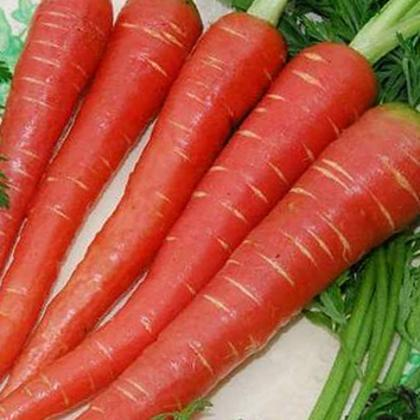carrot: (15, 16, 335, 403)
